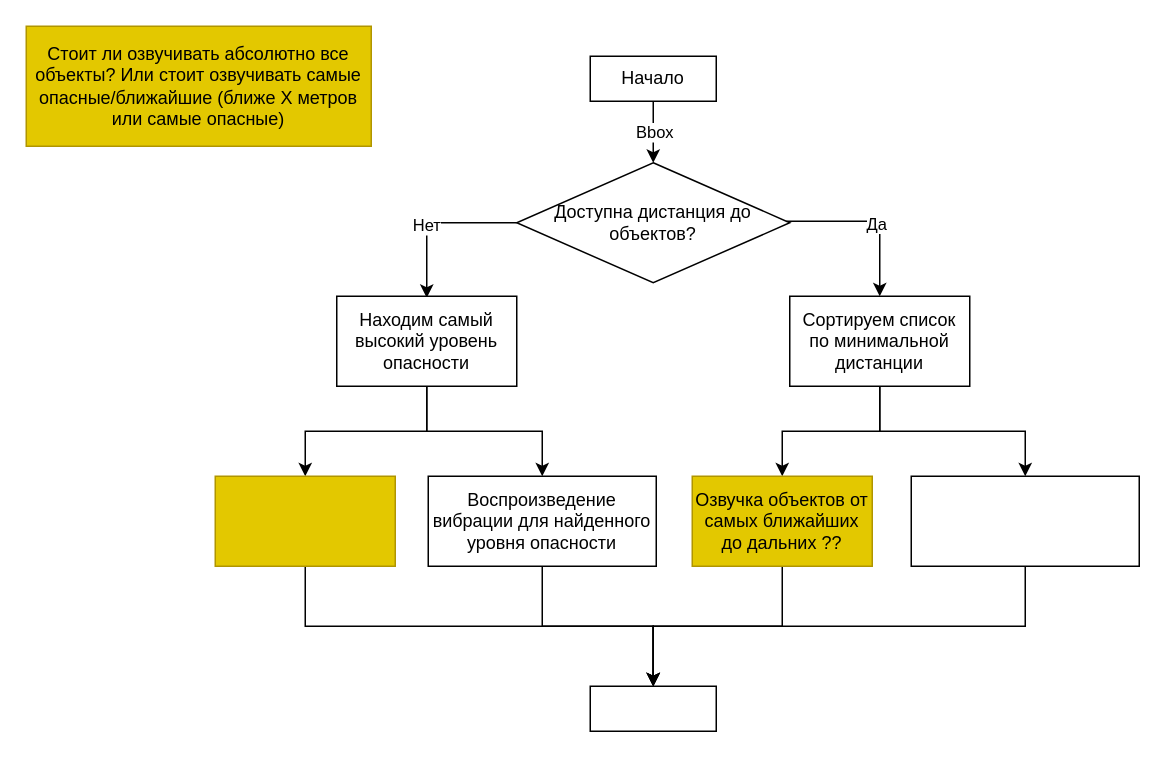
Image size: 1166x758. Some labels were removed from this diagram. Here are the shapes that lost their labels. From the top down, the box of each, then its label:
(214, 475, 395, 566): Озвучка объектов от самых опасных до менее опасных ??
(910, 475, 1139, 566): Воспроизведение вибрации для найденного ближайшего объекта
(589, 685, 716, 731): Конец
